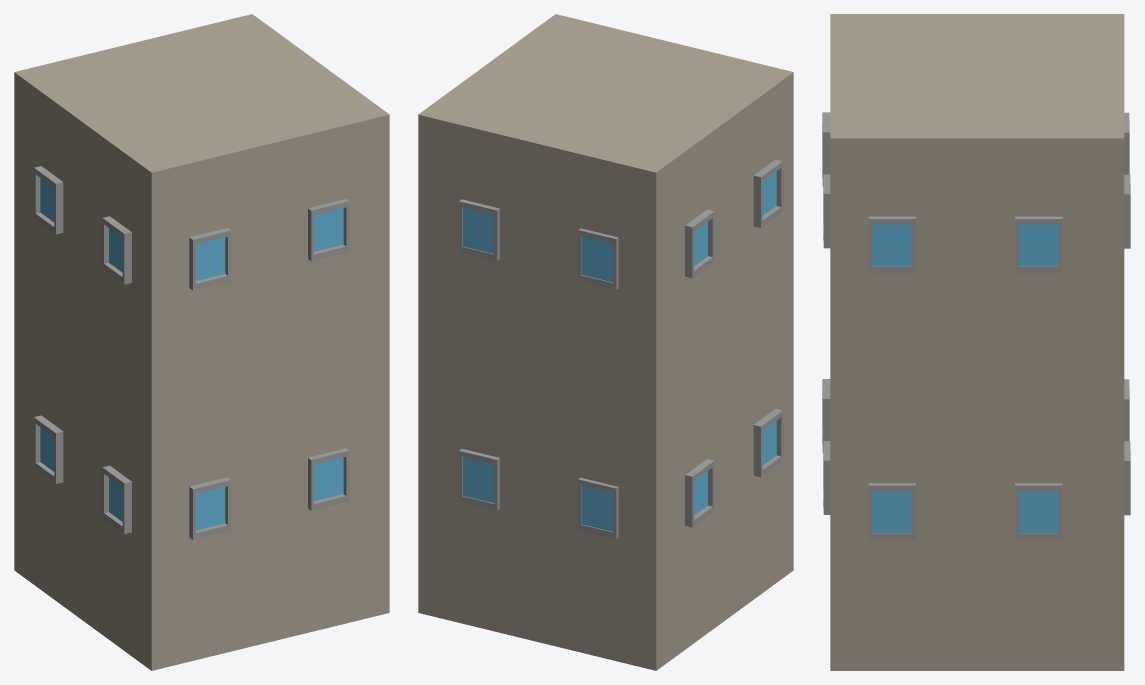
Rendered from House2.fbx.
The picture shows the model from 3 angles, left to right: view 1: azimuth 30°, elevation 25°; view 2: azimuth 150°, elevation 25°; view 3: azimuth 270°, elevation 25°; orthographic projection. The views are drawn at different scales.
Parts seen in each view (by area): view 1: Cube.017, Cube, Cube.020, Cube.018, Cube.015, Cube.001, Cube.005, Cube.024, Cube.003, Cube.022, Cube.004, Cube.023 (+2 smaller); view 2: Cube.017, Cube, Cube.027, Cube.029, Cube.008, Cube.010, Cube.001, Cube.015, Cube.018, Cube.020, Cube.026, Cube.007 (+2 smaller); view 3: Cube.017, Cube, Cube.033, Cube.014, Cube.031, Cube.012, Cube.030, Cube.032, Cube.011, Cube.013, Cube.022, Cube.003 (+4 smaller).
Boxes of the visible parts, x1,y1,x2,y2 form: Cube.017: (14,14,389,421); Cube: (14,321,389,670); Cube.020: (34,166,63,234); Cube.018: (102,216,131,284); Cube.015: (102,465,131,533); Cube.001: (34,415,63,483); Cube.005: (189,477,230,539); Cube.024: (189,228,230,290); Cube.003: (308,448,349,510); Cube.022: (308,199,349,261); Cube.004: (314,457,343,501); Cube.023: (314,208,343,251); Cube.017: (418,14,793,421); Cube: (418,321,793,670); Cube.027: (462,207,494,253); Cube.029: (581,236,613,282); Cube.008: (462,457,494,503); Cube.010: (581,486,613,531); Cube.001: (685,459,714,527); Cube.015: (753,409,782,477); Cube.018: (753,159,782,227); Cube.020: (685,209,714,277); Cube.026: (459,199,499,261); Cube.007: (459,448,499,510); Cube.017: (830,14,1124,404); Cube: (830,404,1124,670); Cube.033: (1018,224,1058,266); Cube.014: (1018,491,1058,532); Cube.031: (872,224,911,266); Cube.012: (872,491,911,532); Cube.030: (868,216,915,273); Cube.032: (1015,216,1062,273); Cube.011: (868,483,915,539); Cube.013: (1015,483,1062,539); Cube.022: (823,174,830,248); Cube.003: (823,441,830,514).
Bounding box in the file's own units: 211 × 400 × 210.
